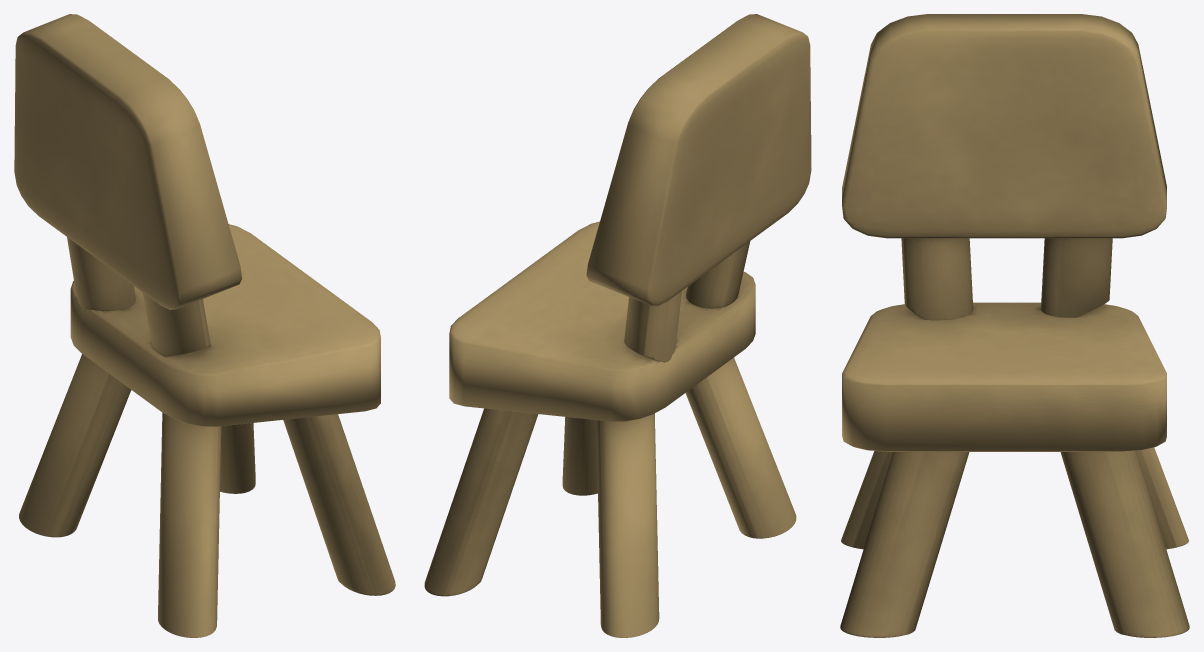
The model's file is Kursi Makan.fbx.
3 renders of one model, left to right at view 1: azimuth 30°, elevation 25°; view 2: azimuth 150°, elevation 25°; view 3: azimuth 270°, elevation 25°, orthographic. The views are drawn at different scales.
Visible parts, largest first — view 1: Cube.048, Cube.047, Cylinder.011, Cylinder.015, Cylinder.014, Cylinder.012, Cylinder.013, Cylinder.021; view 2: Cube.048, Cube.047, Cylinder.015, Cylinder.021, Cylinder.011, Cylinder.013, Cylinder.014, Cylinder.012; view 3: Cube.048, Cube.047, Cylinder.021, Cylinder.014, Cylinder.012, Cylinder.013, Cylinder.015, Cylinder.011.
Boxes of the visible parts, <box> form: Cube.048: <box>14,14,242,309</box>; Cube.047: <box>70,224,380,426</box>; Cylinder.011: <box>158,412,221,637</box>; Cylinder.015: <box>19,354,131,537</box>; Cylinder.014: <box>283,414,395,595</box>; Cylinder.012: <box>143,293,210,356</box>; Cylinder.013: <box>67,237,135,310</box>; Cylinder.021: <box>220,423,255,493</box>; Cube.048: <box>586,14,811,306</box>; Cube.047: <box>449,221,755,421</box>; Cylinder.015: <box>596,413,659,637</box>; Cylinder.021: <box>424,408,538,596</box>; Cylinder.011: <box>685,357,796,538</box>; Cylinder.013: <box>624,291,681,362</box>; Cylinder.014: <box>562,417,597,495</box>; Cylinder.012: <box>686,241,750,308</box>; Cube.048: <box>842,14,1166,238</box>; Cube.047: <box>842,302,1166,451</box>; Cylinder.021: <box>1060,451,1189,637</box>; Cylinder.014: <box>840,452,969,637</box>; Cylinder.012: <box>901,238,973,320</box>; Cylinder.013: <box>1041,238,1112,317</box>; Cylinder.015: <box>1136,447,1188,549</box>; Cylinder.011: <box>841,451,892,549</box>.
Bounding box in the file's own units: 38.86 × 80.02 × 49.07.
